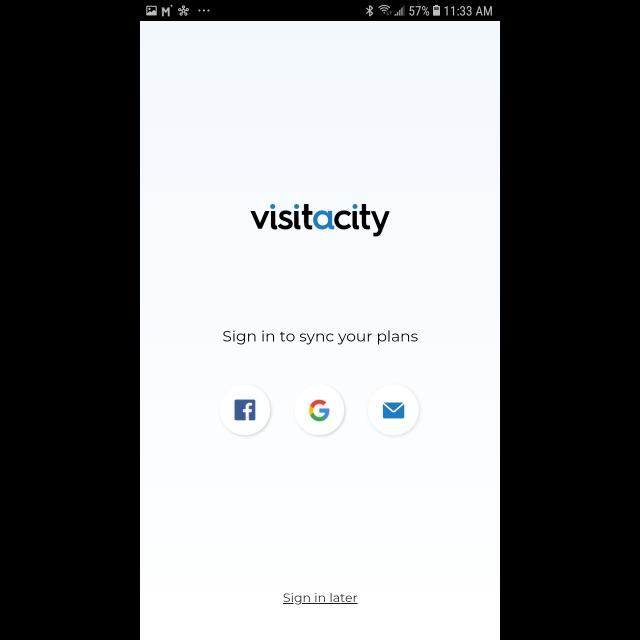icon: (294, 384, 346, 436), (220, 386, 272, 436), (368, 384, 418, 436)
image: (252, 204, 391, 236)
text: (222, 331, 418, 345), (282, 593, 358, 605)
uppertaskbar: (140, 1, 500, 22)
